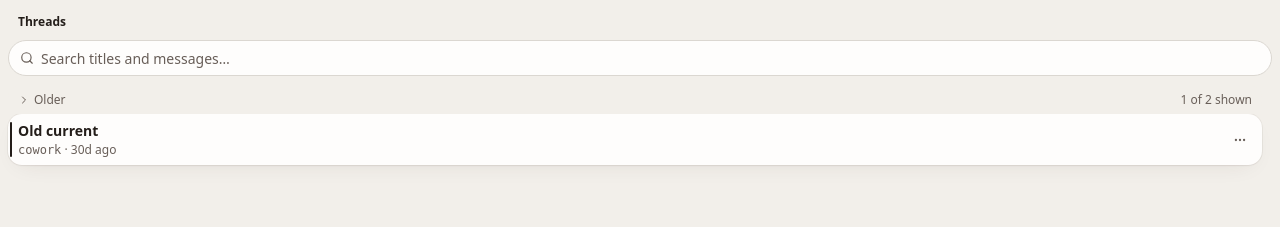
grouping and folding › keeps the current thread visible in a folded Older without holding the rest open
Check: the text "Old current" is shown, box top-left (18, 121), bottom-right (98, 140)
Check: the text "Old other" is not shown
Click the button "Older 1 of 2 shown" at (50, 100), box top-left (8, 86), bottom-right (1262, 114)
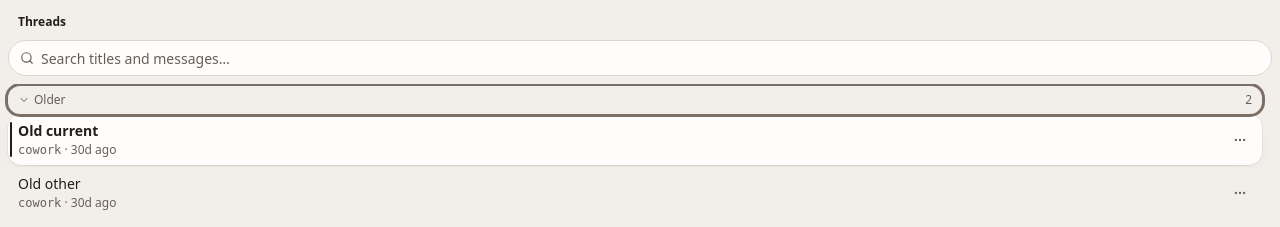
Check: the text "Old other" is shown, box top-left (18, 174), bottom-right (81, 193)
